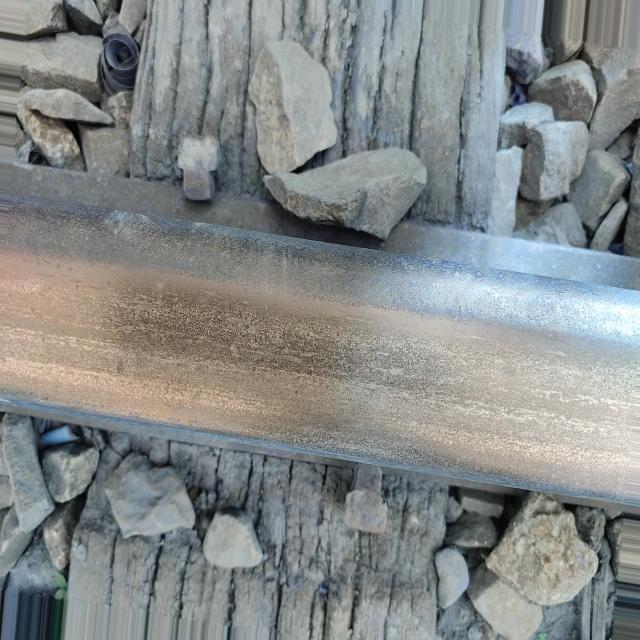Good Fasteners: (344, 464, 388, 533), (178, 135, 218, 201)
